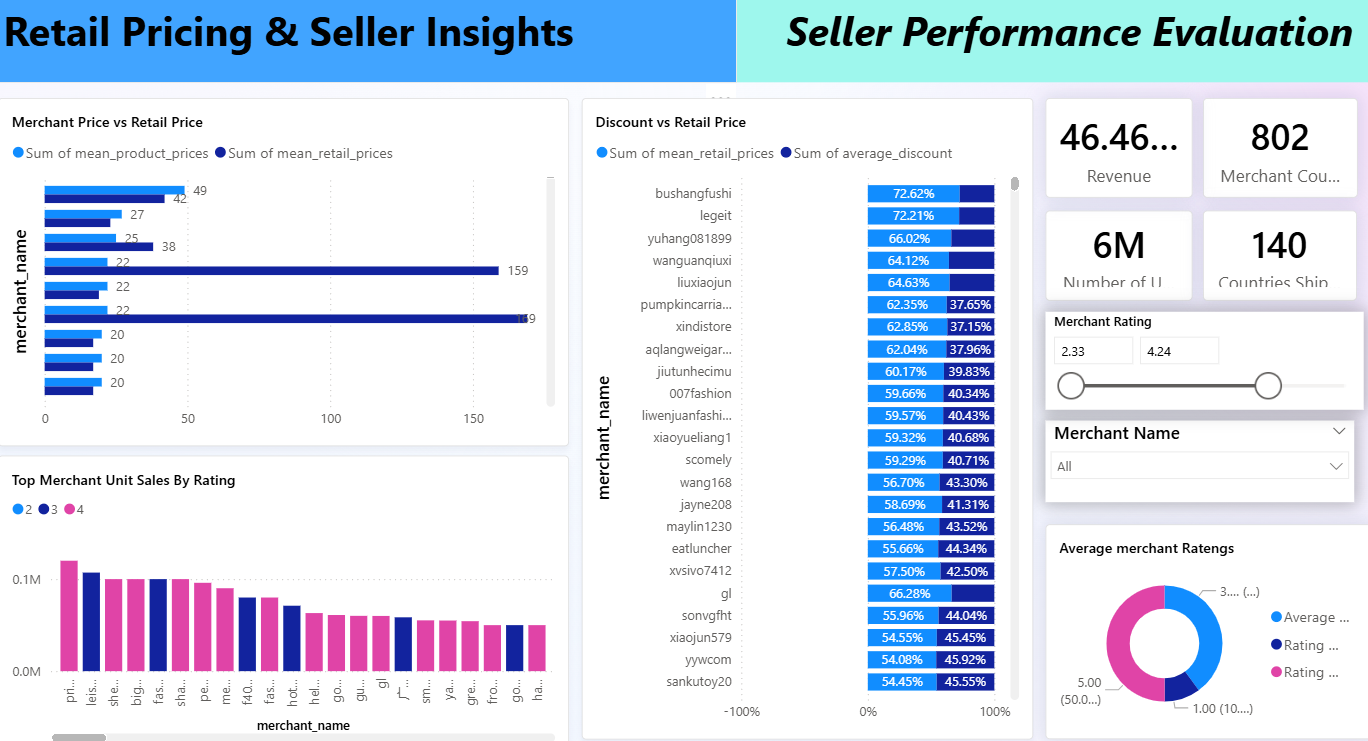

The page's visual inventory and layout, read from the dashboard file:
{"tool":"powerbi","page":{"name":"Seller Performance Evaluation","canvas":[1280,720],"ordinal":5},"visuals":[{"type":"card","fields":{"Values":["Count(insights_cleaned.merchant_id)"]},"box":[1121.4,92.9,144.3,92.9],"z":0},{"type":"card","fields":{"Values":["Sum(insights_cleaned.total_units_sold)"]},"box":[974.3,197.1,137.1,84.3],"z":1000},{"type":"card","fields":{"Values":["Max(products_cleaned.countries_shipped_to)"]},"box":[1121.4,197.1,142.9,84.3],"z":2000},{"type":"card","fields":{"Values":["Sum(products_cleaned.Revenue)"]},"box":[974.3,92.9,137.1,92.9],"z":3000},{"type":"donutChart","title":"Average merchant Ratengs","fields":{"Y":["Avg(seller_insights.rating)","seller_insights.Rating Min","seller_insights.Rating Max"]},"box":[974.3,490,305.7,200],"z":4000},{"type":"slicer","fields":{"Values":["products_cleaned.merchant_name"]},"box":[974.3,392.9,287.1,75.7],"z":5000},{"type":"slicer","fields":{"Values":["insights_cleaned.rating"]},"box":[974.3,291.4,295.7,91.4],"z":6000},{"type":"clusteredBarChart","title":"Merchant Price vs Retail Price","fields":{"Category":["products_cleaned.merchant_name"],"Y":["Sum(insights_cleaned.mean_product_prices)","Sum(insights_cleaned.mean_retail_prices)"]},"box":[0,92.9,531.4,324.3],"z":7000},{"type":"columnChart","title":"Top Merchant Unit Sales By Rating","fields":{"Category":["products_cleaned.merchant_name"],"Y":["Avg(insights_cleaned.total_units_sold)"],"Series":["insights_cleaned.rating (bins)"]},"box":[0,425.7,531.4,280],"z":8000},{"type":"textbox","box":[687.1,0,592.9,78.6],"z":9000},{"type":"textbox","box":[0,0,687.1,78.6],"z":10000},{"type":"hundredPercentStackedBarChart","title":"Discount vs Retail Price","fields":{"Category":["products_cleaned.merchant_name"],"Y":["Sum(insights_cleaned.mean_retail_prices)","Sum(insights_cleaned.average_discount)"]},"box":[542.9,92.9,420,597.1],"z":11000}]}

Visuals, with their boxes on the page's 1280x720 design canvas (x1, y1, x2, y2). These are canvas units, not pixel positions in the 1368x741 screenshot, which may show the page scaled, cropped or inside an application window:
card - Count(insights_cleaned.merchant_id): region(1121, 93, 1266, 186)
card - Sum(insights_cleaned.total_units_sold): region(974, 197, 1111, 281)
card - Max(products_cleaned.countries_shipped_to): region(1121, 197, 1264, 281)
card - Sum(products_cleaned.Revenue): region(974, 93, 1111, 186)
"Average merchant Ratengs" donutChart: region(974, 490, 1280, 690)
slicer - products_cleaned.merchant_name: region(974, 393, 1261, 469)
slicer - insights_cleaned.rating: region(974, 291, 1270, 383)
"Merchant Price vs Retail Price" clusteredBarChart: region(0, 93, 531, 417)
"Top Merchant Unit Sales By Rating" columnChart: region(0, 426, 531, 706)
textbox: region(687, 0, 1280, 79)
textbox: region(0, 0, 687, 79)
"Discount vs Retail Price" hundredPercentStackedBarChart: region(543, 93, 963, 690)
